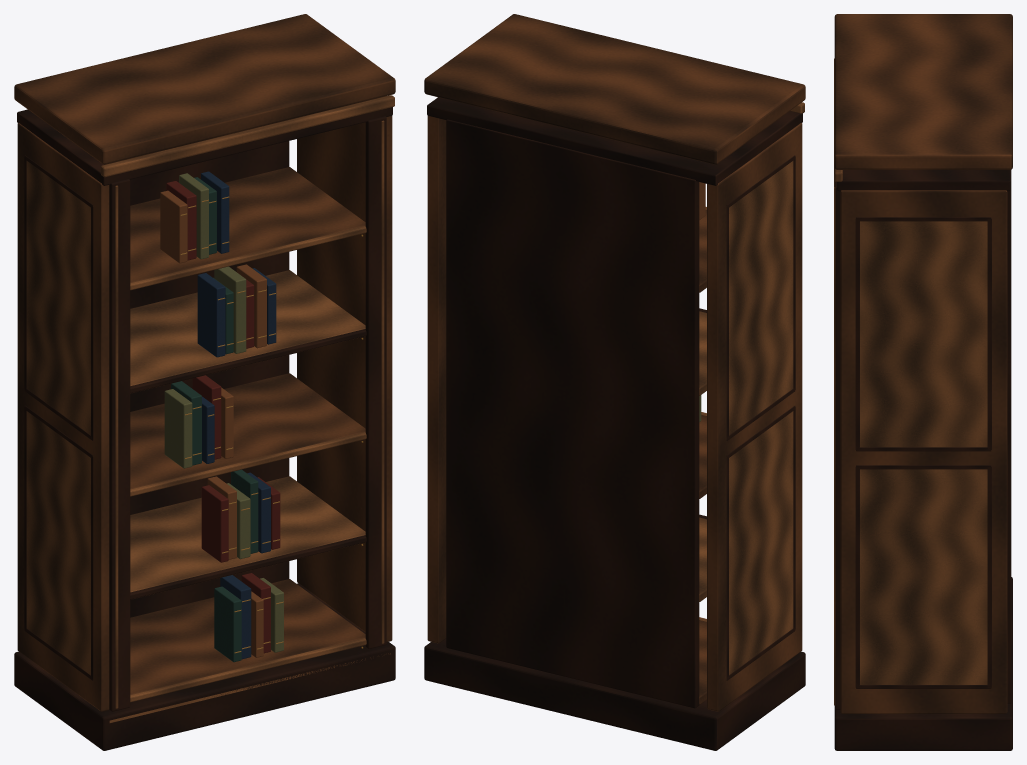
File: asset.glb
3 renders of one model, left to right at view 1: azimuth 30°, elevation 25°; view 2: azimuth 150°, elevation 25°; view 3: azimuth 270°, elevation 25°, orthographic.
Visible parts, largest first — view 1: MaterialBatch_Room_furniture_quarter-sawn_oak, MaterialBatch_Room_furniture_light_oak, MaterialBatch_Room_furniture_smoked_walnut, MaterialBatch_Household_bookcase_navy_cloth_bindings, MaterialBatch_Household_bookcase_olive_linen_bindings, MaterialBatch_Household_bookcase_oxblood_leather_bindings, MaterialBatch_Household_bookcase_russet_cloth_bindings, MaterialBatch_Household_bookcase_forest_cloth_bindings, MaterialBatch_Household_bookcase_aged_gold_spine_tooling; view 2: MaterialBatch_Room_furniture_smoked_walnut, MaterialBatch_Room_furniture_quarter-sawn_oak, MaterialBatch_Room_furniture_light_oak; view 3: MaterialBatch_Room_furniture_light_oak, MaterialBatch_Room_furniture_quarter-sawn_oak, MaterialBatch_Room_furniture_smoked_walnut.
Boxes of the visible parts, x1=… form: MaterialBatch_Room_furniture_quarter-sawn_oak: x1=14, y1=14, x2=395, y2=711; MaterialBatch_Room_furniture_light_oak: x1=26, y1=95, x2=394, y2=722; MaterialBatch_Room_furniture_smoked_walnut: x1=14, y1=107, x2=395, y2=750; MaterialBatch_Household_bookcase_navy_cloth_bindings: x1=197, y1=171, x2=276, y2=659; MaterialBatch_Household_bookcase_olive_linen_bindings: x1=164, y1=173, x2=283, y2=652; MaterialBatch_Household_bookcase_oxblood_leather_bindings: x1=166, y1=181, x2=280, y2=653; MaterialBatch_Household_bookcase_russet_cloth_bindings: x1=160, y1=190, x2=266, y2=657; MaterialBatch_Household_bookcase_forest_cloth_bindings: x1=171, y1=177, x2=258, y2=662; MaterialBatch_Household_bookcase_aged_gold_spine_tooling: x1=180, y1=196, x2=283, y2=653; MaterialBatch_Room_furniture_smoked_walnut: x1=424, y1=97, x2=805, y2=750; MaterialBatch_Room_furniture_quarter-sawn_oak: x1=424, y1=14, x2=805, y2=711; MaterialBatch_Room_furniture_light_oak: x1=699, y1=102, x2=804, y2=674; MaterialBatch_Room_furniture_light_oak: x1=834, y1=58, x2=987, y2=705; MaterialBatch_Room_furniture_quarter-sawn_oak: x1=834, y1=14, x2=1012, y2=713; MaterialBatch_Room_furniture_smoked_walnut: x1=834, y1=170, x2=1012, y2=750.
Bounding box in the file's own units: 32 × 63 × 17.06.
Materials: 11 (11 with a texture image).
